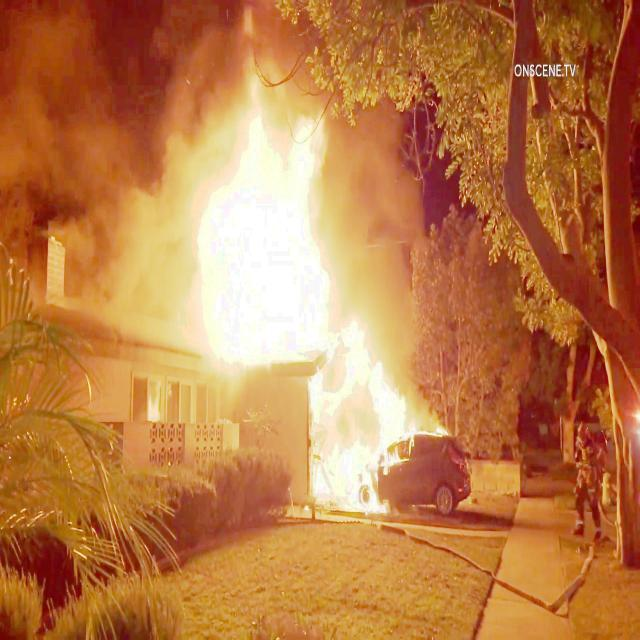Fire: (193, 100, 332, 360), (322, 348, 417, 538)
Smoke: (2, 2, 190, 339), (0, 0, 256, 75), (334, 76, 406, 307)
